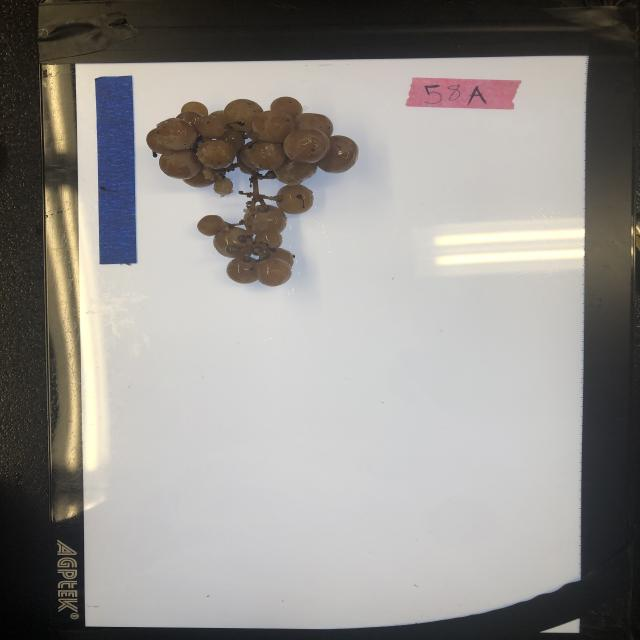grape_cluster: (144, 94, 360, 287)
index: (402, 76, 521, 112)
measure_label: (93, 73, 138, 266)
